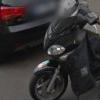Motorcycle: (24, 14, 100, 100)
